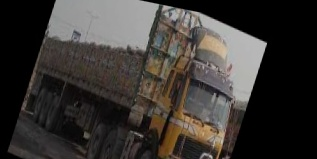truck: (5, 0, 265, 159)
